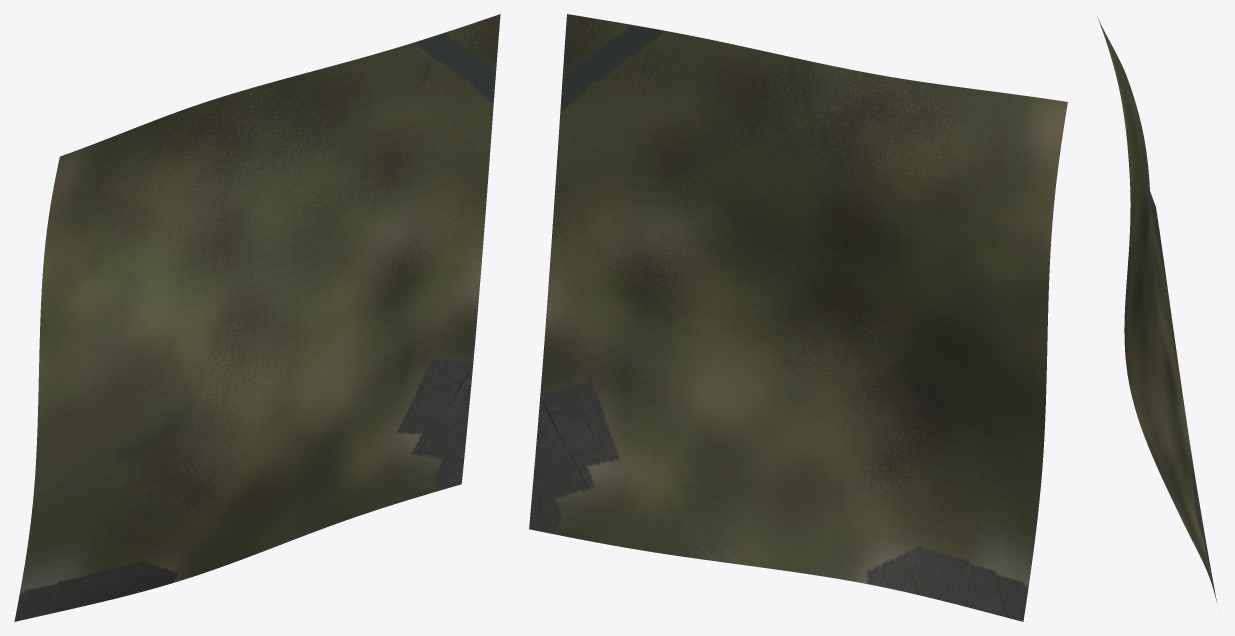
The model's file is ground_core_01_04.obj.
The picture shows the model from 3 angles, left to right: view 1: azimuth 30°, elevation 25°; view 2: azimuth 150°, elevation 25°; view 3: azimuth 270°, elevation 25°; orthographic projection. The views are drawn at different scales.
Visible parts, largest first — view 1: ground_core_01_04; view 2: ground_core_01_04; view 3: ground_core_01_04.
Boxes of the visible parts, <box> form: ground_core_01_04: <box>14,14,500,621</box>; ground_core_01_04: <box>529,14,1067,621</box>; ground_core_01_04: <box>1097,16,1217,605</box>.
Bounding box in the file's own units: 50 × 50 × 13.58.
1 material, 1 textured.
